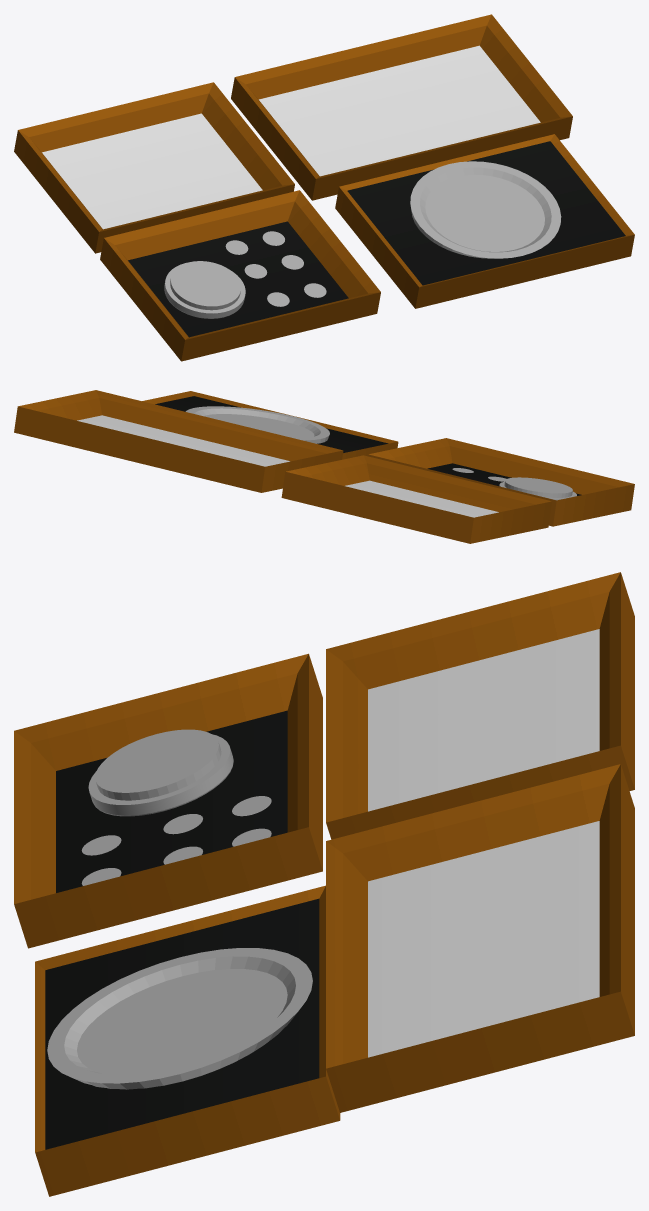
Rendered from SM_DisplayBox.fbx.
The picture shows the model from 3 angles, top to bottom: view 1: azimuth 30°, elevation 25°; view 2: azimuth 150°, elevation 25°; view 3: azimuth 270°, elevation 25°; orthographic projection. The views are drawn at different scales.
Parts seen in each view (by area): view 1: pCube2, pCube3, pCube5, pCube4, pPlane1, pPlane2; view 2: pCube2, pCube3, pCube5, pCube4, pPlane1, pPlane2; view 3: pCube2, pCube3, pCube5, pCube4, pPlane1, pPlane2.
Boxes of the visible parts, x1,y1,x2,y2 form: pCube2: (231,14,572,200); pCube3: (14,82,294,253); pCube5: (100,190,380,361); pCube4: (335,134,634,308); pPlane1: (410,161,561,258); pPlane2: (164,261,245,318); pCube2: (14,390,343,492); pCube3: (281,455,551,543); pCube5: (368,438,634,526); pCube4: (142,391,398,459); pPlane1: (185,406,329,443); pPlane2: (499,477,576,500); pCube2: (326,764,634,1112); pCube3: (326,572,634,839); pCube5: (14,653,322,948); pCube4: (35,885,340,1196); pPlane1: (47,948,312,1089); pPlane2: (88,729,233,816).
Bounding box in the file's own units: 19.49 × 4.8 × 12.2.
